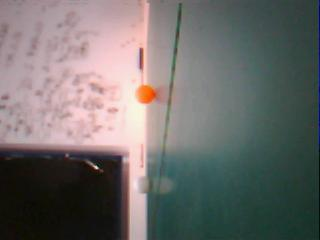oball: (135, 83, 154, 105)
